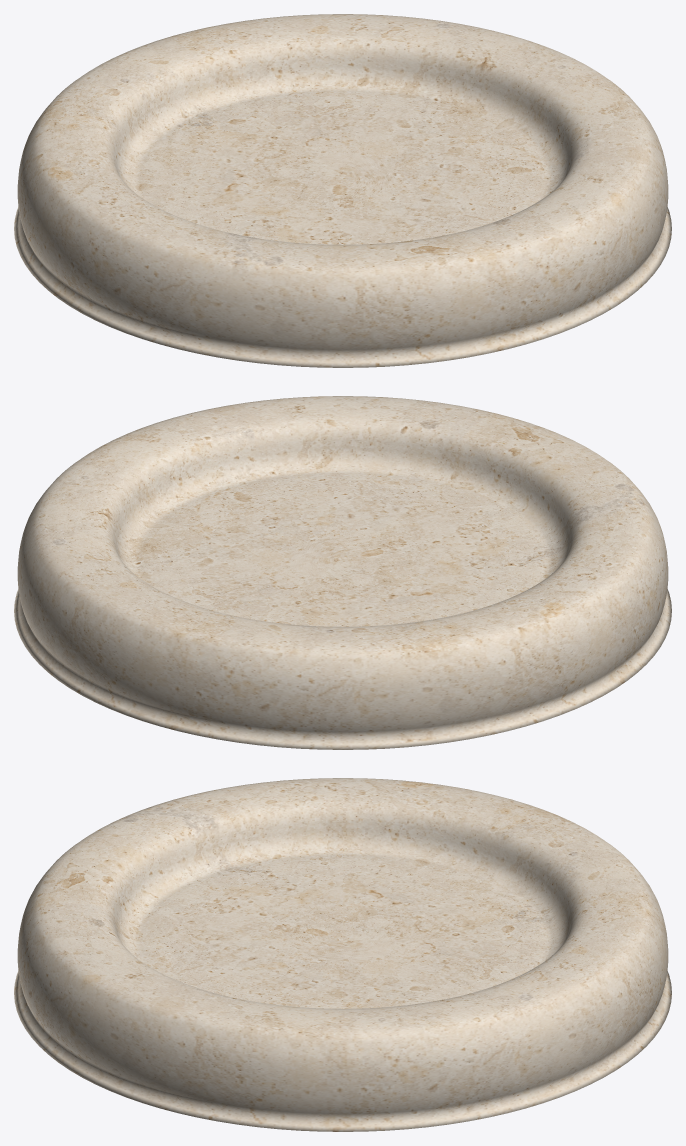
The model's file is tzaar-tott-white.glb.
The picture shows the model from 3 angles, top to bottom: view 1: azimuth 30°, elevation 25°; view 2: azimuth 150°, elevation 25°; view 3: azimuth 270°, elevation 25°; orthographic projection.
Parts seen in each view (by area): view 1: tzaar-tott-white; view 2: tzaar-tott-white; view 3: tzaar-tott-white.
Part boxes in pixels (box(x1,y1,x2,y2)): tzaar-tott-white: box(14, 14, 671, 367); tzaar-tott-white: box(14, 396, 671, 749); tzaar-tott-white: box(14, 778, 671, 1131).
Bounding box in the file's own units: 0.0283 × 0.00435 × 0.0283.
1 material, 1 textured.
